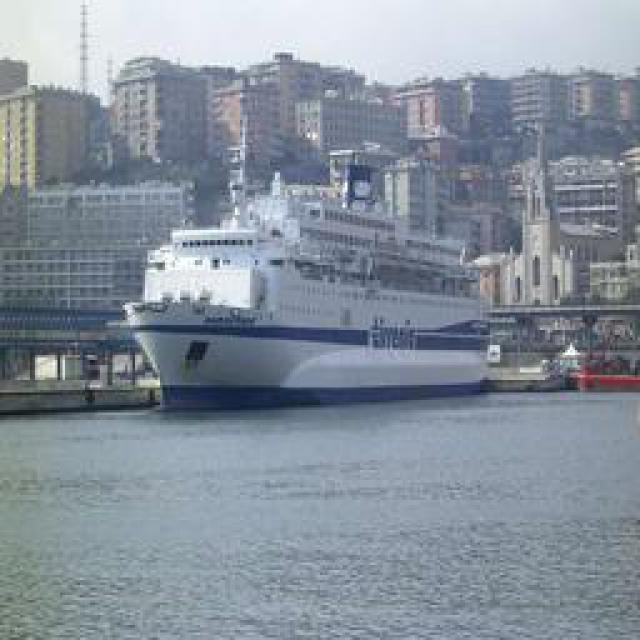Ship: (121, 157, 504, 410)
